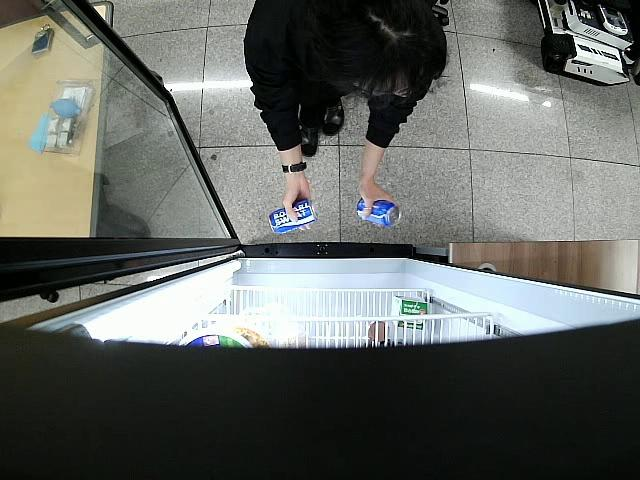00_hand: (358, 177, 395, 221), (281, 178, 311, 223)
13_pocariSweat: (267, 198, 319, 236), (357, 196, 403, 228)
